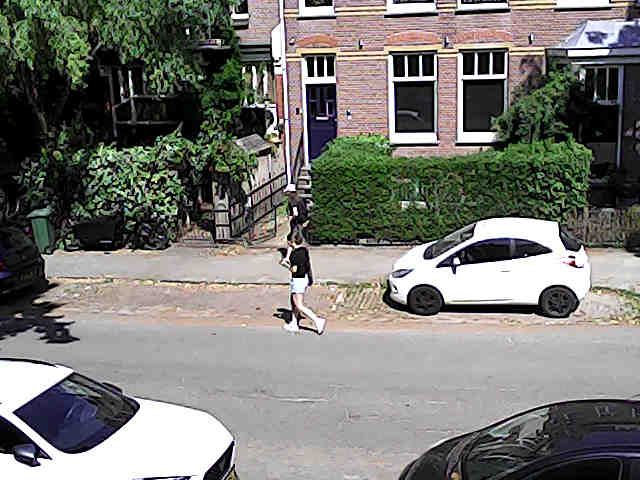male: (283, 231, 325, 334), (284, 184, 308, 238)
suv: (0, 359, 236, 479), (388, 218, 590, 317), (399, 400, 639, 479), (0, 227, 46, 294)
